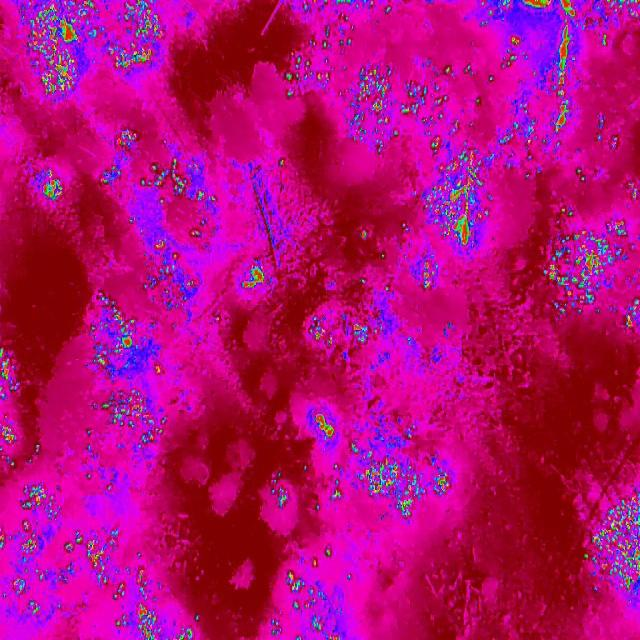fire: (413, 1, 640, 332), (0, 477, 196, 640), (278, 0, 432, 151), (290, 400, 454, 520), (22, 0, 162, 101), (90, 123, 223, 216), (268, 546, 366, 640), (78, 291, 166, 383), (580, 482, 640, 610), (84, 379, 166, 458), (0, 342, 43, 478), (140, 220, 208, 298), (303, 308, 389, 359), (258, 464, 292, 518), (232, 260, 274, 299), (36, 173, 68, 213)
